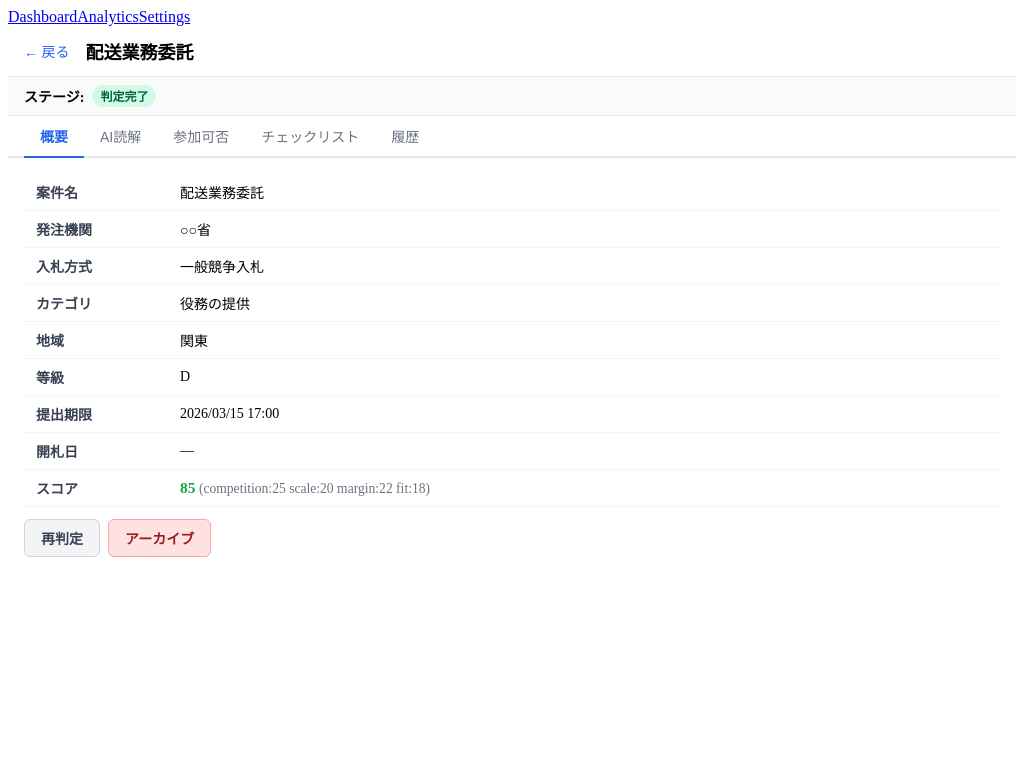
Scenario: EligibilityTab — VerdictBadge › shows ineligible verdict badge
Click the button with test id "tab-eligibility": click(201, 137) [157,116,245,158]
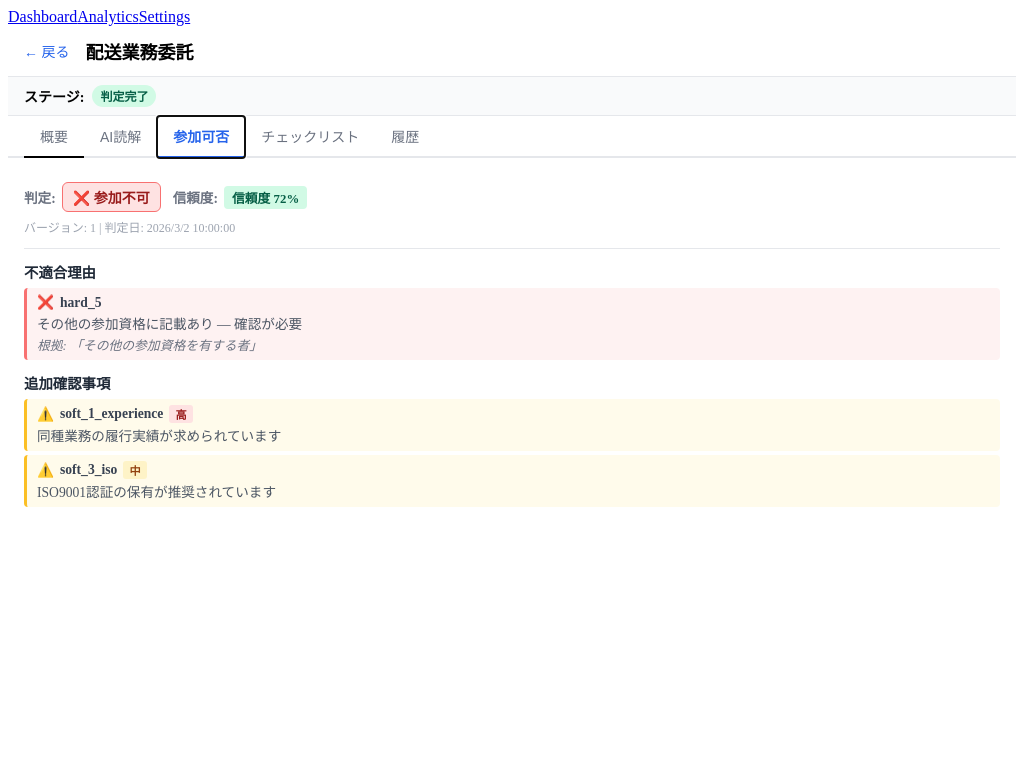
Expected: the text with test id "verdict-badge" shows "参加不可", [94,191,150,206]
